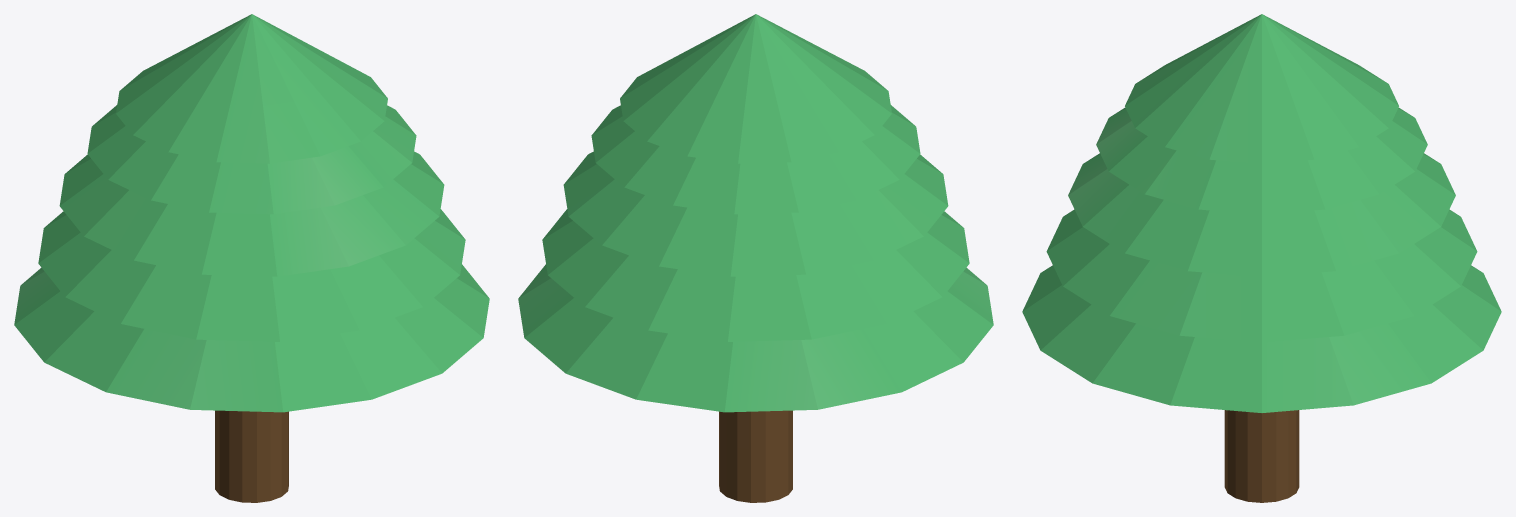
File: Arvore.fbx
3 views of the same model, side by side, from view 1: azimuth 30°, elevation 25°; view 2: azimuth 150°, elevation 25°; view 3: azimuth 270°, elevation 25° (orthographic).
Parts seen in each view (by area): view 1: Arvore; view 2: Arvore; view 3: Arvore.
Boxes of the visible parts, <box> form: Arvore: <box>14,14,489,502</box>; Arvore: <box>518,14,993,502</box>; Arvore: <box>1022,14,1501,502</box>.
Bounding box in the file's own units: 509 × 555 × 509.
